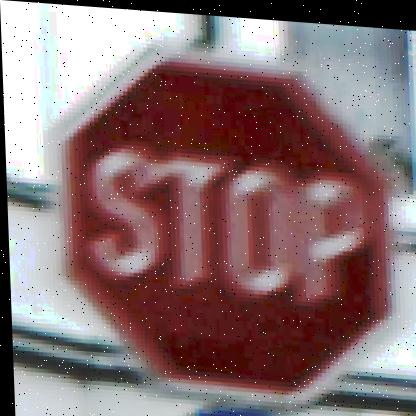Stop Sign: (48, 35, 416, 411)
